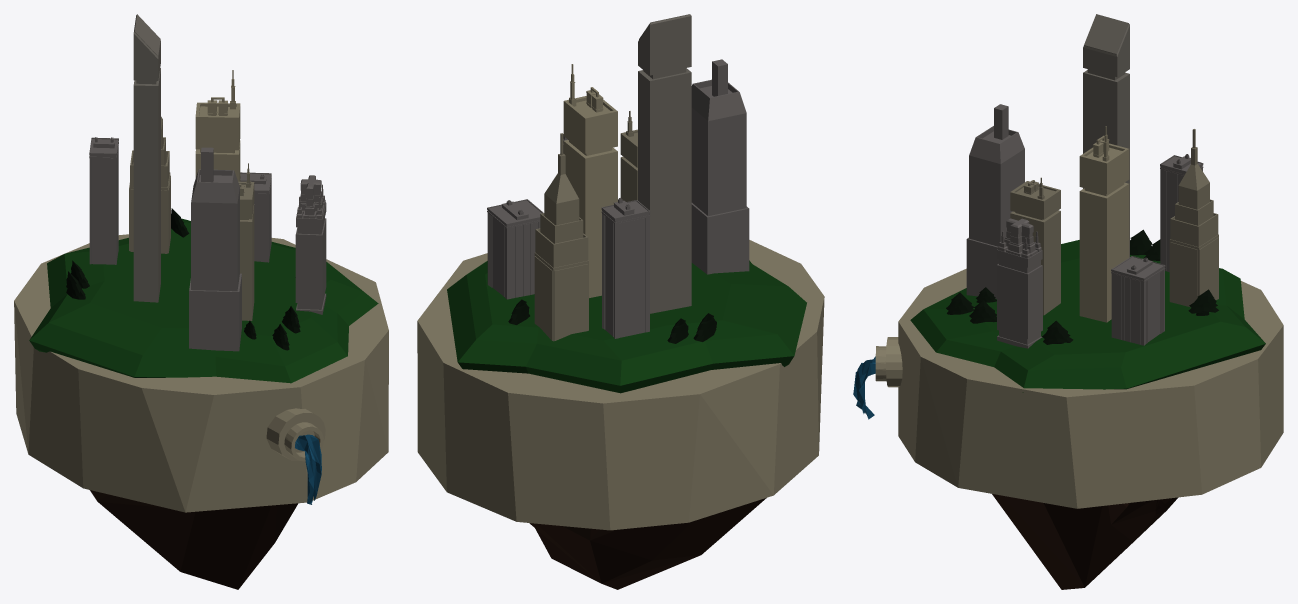
File: NEWmediumlandcity.obj
The picture shows the model from 3 angles, left to right: view 1: azimuth 30°, elevation 25°; view 2: azimuth 150°, elevation 25°; view 3: azimuth 270°, elevation 25°; orthographic projection. The views are drawn at different scales.
Visible parts, largest first — view 1: Cylinder, Cylinder_multicolor_0, Icosphere.001, Highrise_8.002, Highrise_16.002, Highrise_18.005, Highrise_14.006, Highrise_11.002, Highrise_11.001, Highrise_14.003, Highrise_9.001_Highrise_9.010, BezierCurve.003_BezierCurve.002 (+2 smaller); view 2: Cylinder, Cylinder_multicolor_0, Highrise_16.002, Highrise_8.002, Icosphere.001, Highrise_9.001_Highrise_9.010, Highrise_11.002, Highrise_14.006, Highrise_14.003, Highrise_11.001; view 3: Cylinder, Cylinder_multicolor_0, Icosphere.001, Highrise_11.002, Highrise_8.002, Highrise_9.001_Highrise_9.010, Highrise_16.002, Highrise_18.005, Highrise_14.003, Highrise_11.001, Highrise_14.006, BezierCurve.003_BezierCurve.002 (+1 smaller).
Part boxes in pixels (x1,y1,x2,y2): Cylinder: (14,234,388,512); Cylinder_multicolor_0: (29,218,378,383); Icosphere.001: (90,490,298,589); Highrise_8.002: (189,147,241,351); Highrise_16.002: (133,14,160,302); Highrise_18.005: (295,175,326,314); Highrise_14.006: (89,137,118,264); Highrise_11.002: (195,70,240,181); Highrise_11.001: (238,163,254,320); Highrise_14.003: (240,172,271,262); Highrise_9.001_Highrise_9.010: (129,116,170,253); BezierCurve.003_BezierCurve.002: (266,408,325,460); Cylinder: (417,240,824,530); Cylinder_multicolor_0: (447,260,806,393); Highrise_16.002: (638,14,691,313); Highrise_8.002: (691,59,749,274); Icosphere.001: (529,498,766,589); Highrise_9.001_Highrise_9.010: (534,133,588,341); Highrise_11.002: (563,64,617,297); Highrise_14.006: (601,197,650,338); Highrise_14.003: (487,199,543,299); Highrise_11.001: (620,111,637,201); Cylinder: (898,268,1283,508); Cylinder_multicolor_0: (910,240,1265,392); Icosphere.001: (992,494,1178,589); Highrise_11.002: (1079,126,1129,322); Highrise_8.002: (966,104,1024,298); Highrise_9.001_Highrise_9.010: (1169,129,1218,307); Highrise_16.002: (1083,14,1129,257); Highrise_18.005: (997,218,1042,348); Highrise_14.003: (1111,256,1165,345); Highrise_11.001: (1010,177,1060,315); Highrise_14.006: (1160,154,1203,271); BezierCurve.003_BezierCurve.002: (886,337,902,387).
Bounding box in the file's own units: 0.64 × 1.06 × 0.7691.
